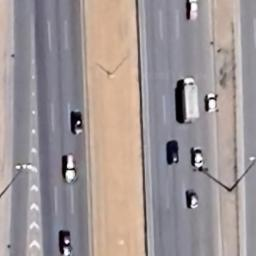SUV: (63, 152, 79, 183), (70, 108, 84, 137)
sedan: (58, 228, 74, 256), (165, 138, 179, 166), (191, 144, 205, 170), (184, 188, 200, 210), (205, 91, 218, 114), (187, 0, 199, 24)
truck: (178, 74, 200, 126)
